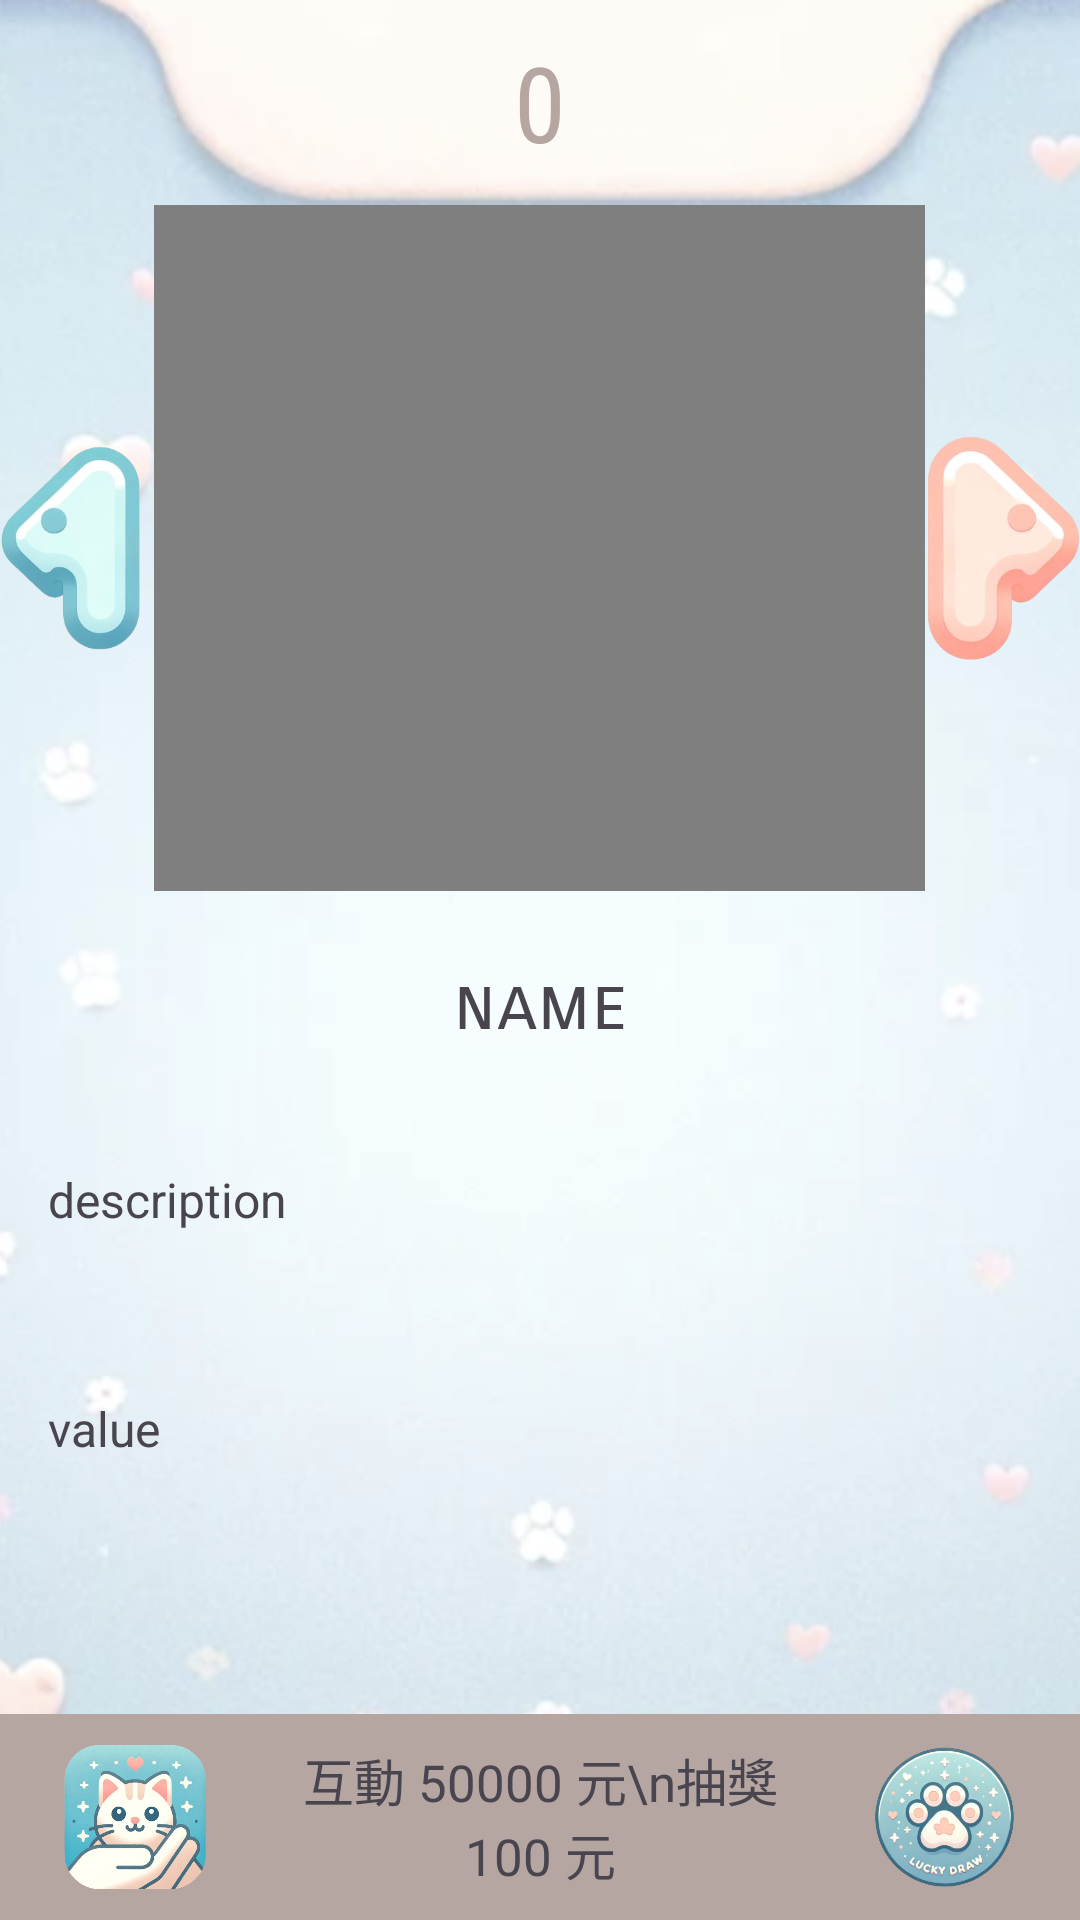

Named icons in this screenshot (1080px x 1920px) and their centers, (x,y):
takecare: (135,1817)
